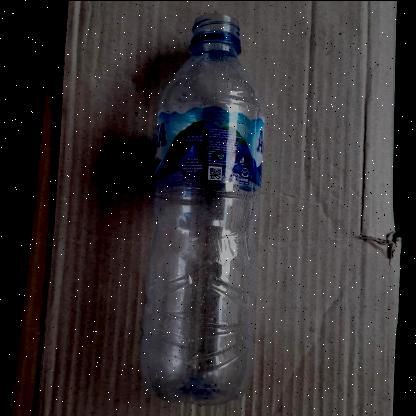Plastic Bottle: (139, 11, 267, 406)
